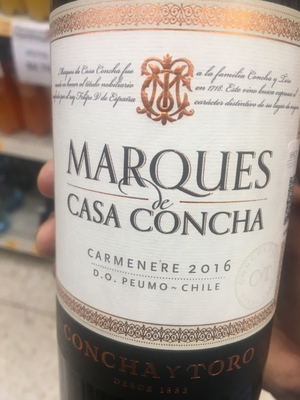marques de casa concha carmenere: (50, 5, 298, 400)
